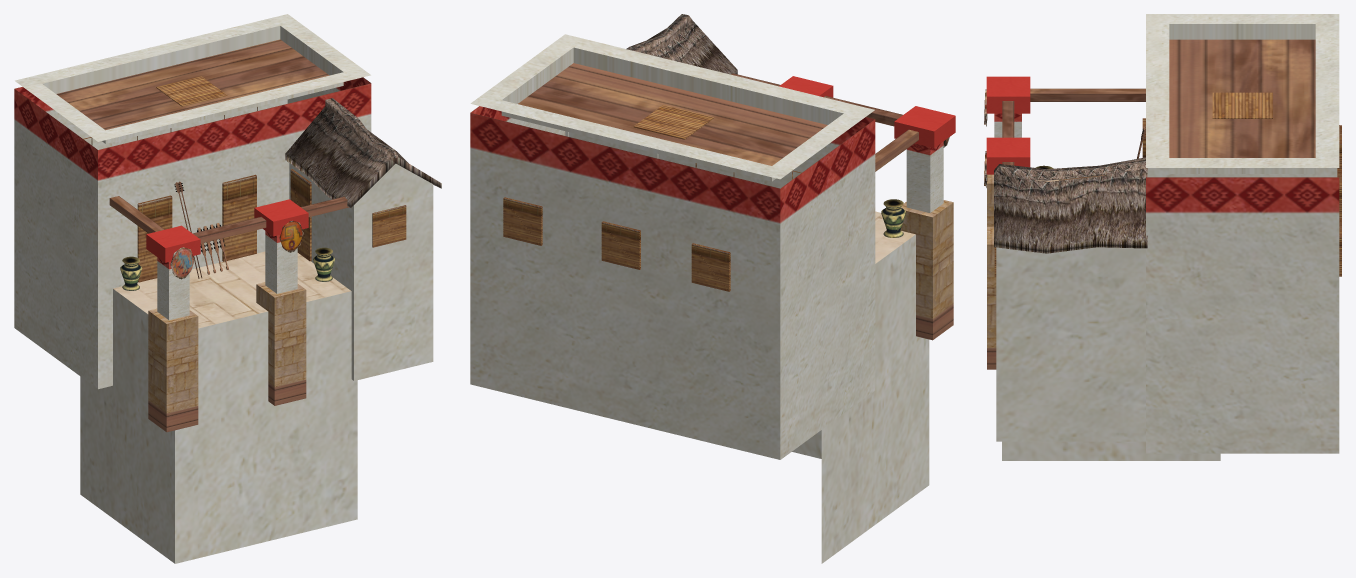
Rendered from barracks_mex.dae.
3 views of the same model, side by side, from view 1: azimuth 30°, elevation 25°; view 2: azimuth 150°, elevation 25°; view 3: azimuth 270°, elevation 25° (orthographic). The views are drawn at different scales.
Visible parts, largest first — view 1: CuartelMilitar; view 2: CuartelMilitar; view 3: CuartelMilitar.
Part boxes in pixels (<box>): CuartelMilitar: <box>14,14,441,563</box>; CuartelMilitar: <box>470,14,955,563</box>; CuartelMilitar: <box>984,14,1341,460</box>.
Size of the model in its own units: 18.14 by 17.41 by 23.56.
